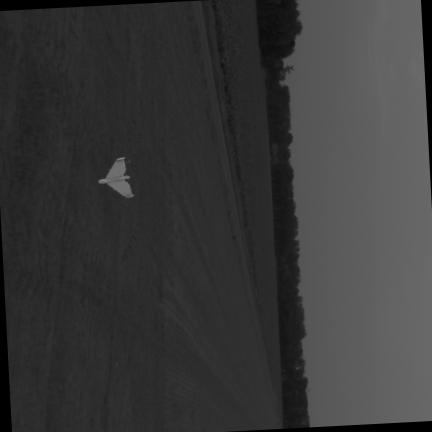Shahed: (98, 158, 132, 197)
